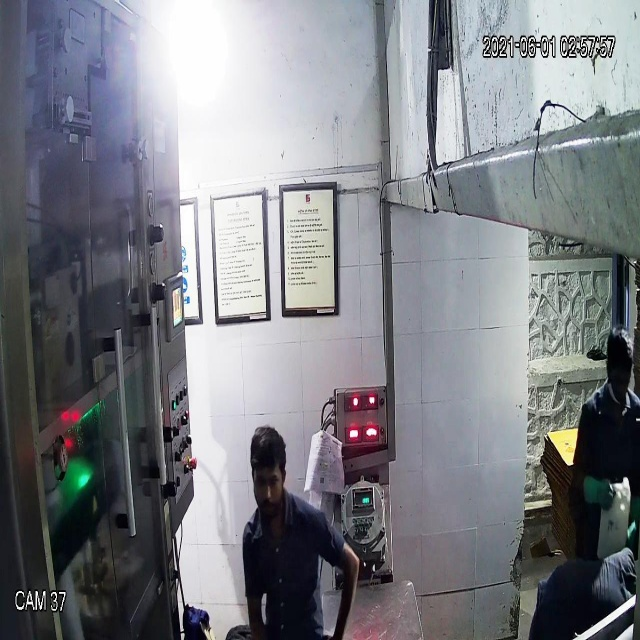Sin_gafas: (248, 466, 288, 498)
